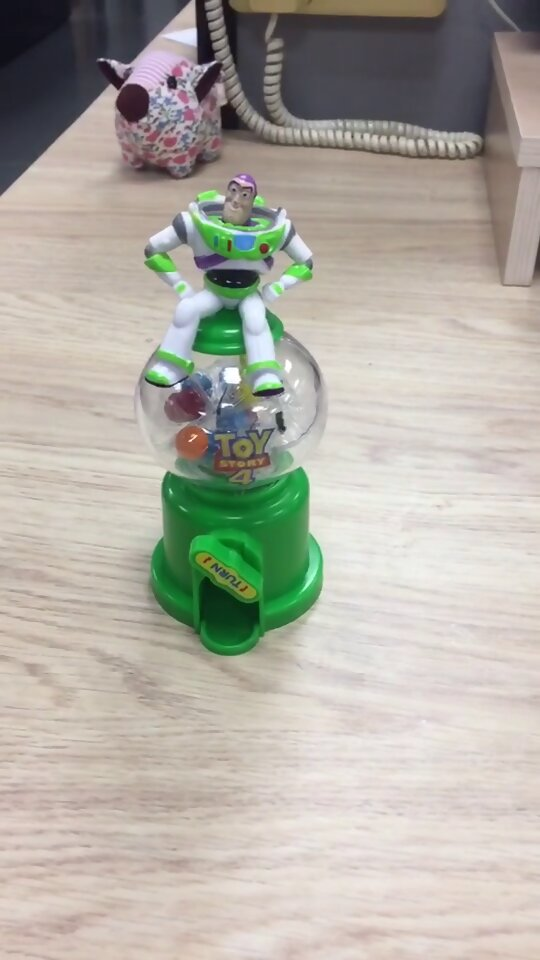buzz: (133, 170, 329, 655)
